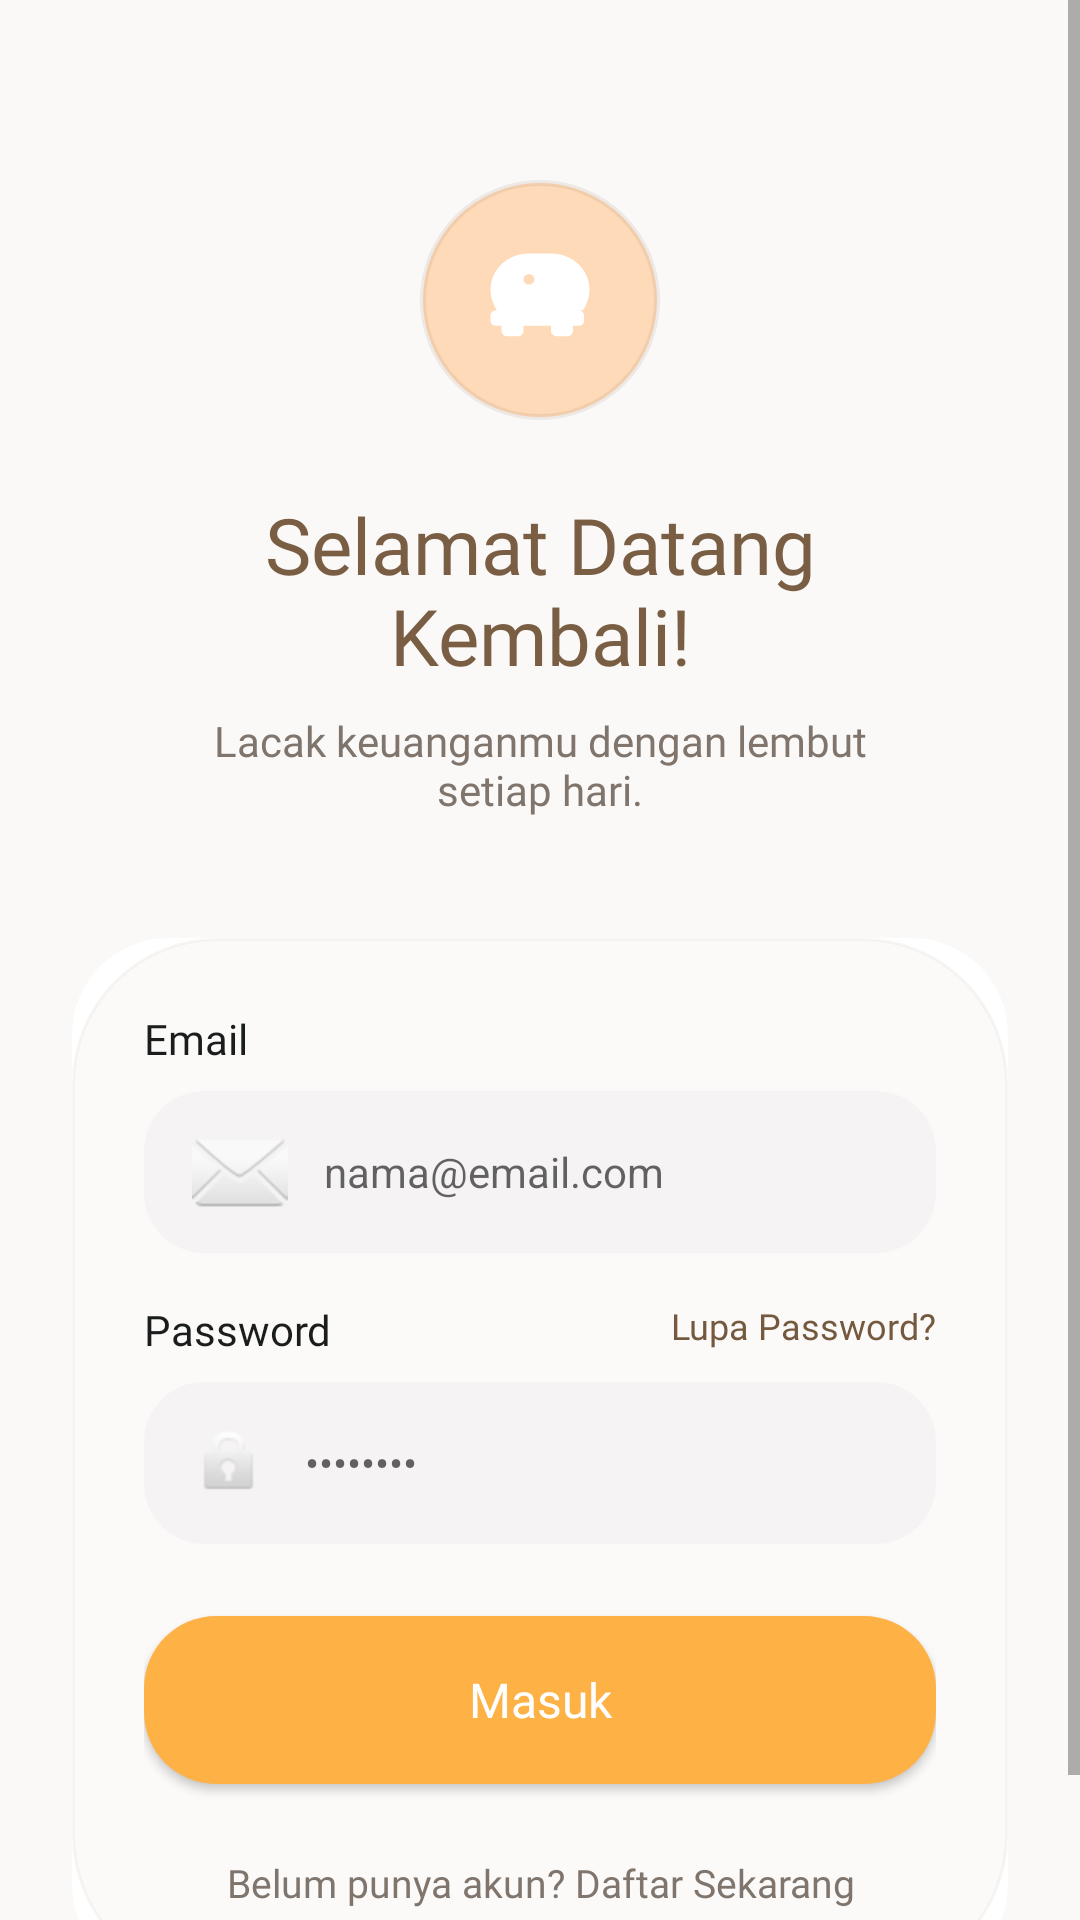

Where to tap for icons on this 1080px x 1920px app screen, as (x,y):
piggy: (540,294)
